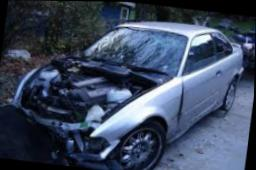Bonnet: (17, 55, 173, 133)
Bumper: (1, 105, 91, 163)
Fender: (90, 79, 172, 145)
